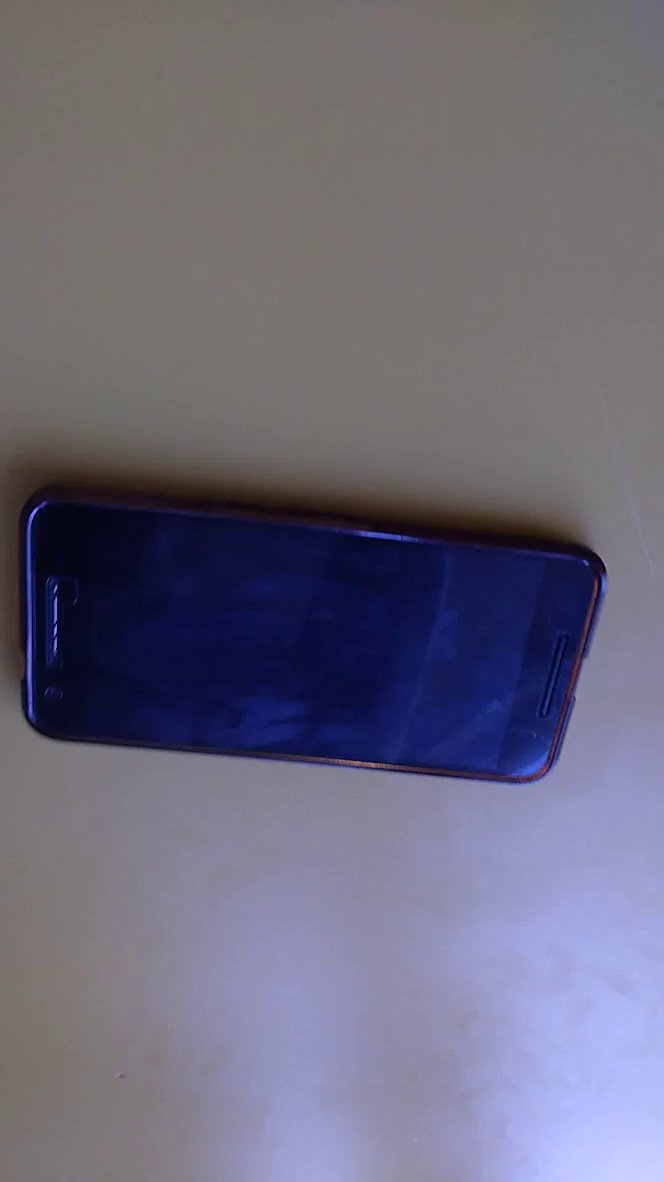phone: (10, 459, 620, 802)
